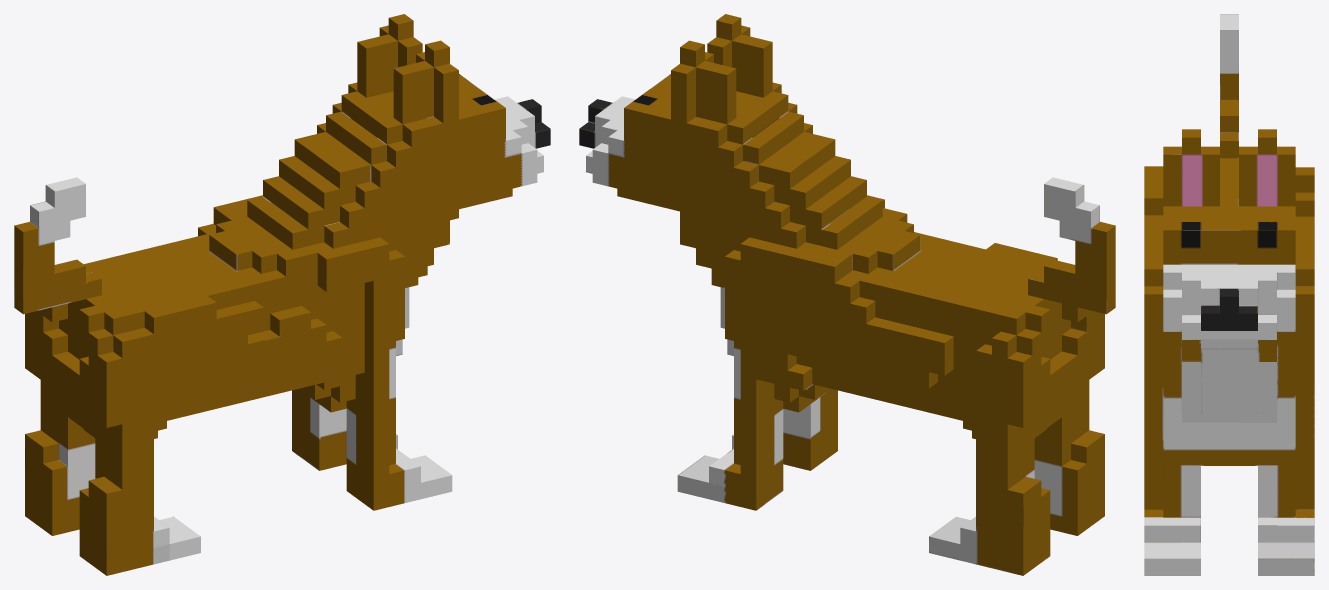
Rendered from tsun.glb.
3 views of the same model, side by side, from view 1: azimuth 30°, elevation 25°; view 2: azimuth 150°, elevation 25°; view 3: azimuth 270°, elevation 25° (orthographic). The views are drawn at different scales.
Visible parts, largest first — view 1: tsun; view 2: tsun; view 3: tsun.
Boxes of the visible parts, left/top/right/bottom form: tsun: left=14, top=14, right=550, bottom=575; tsun: left=579, top=14, right=1115, bottom=575; tsun: left=1144, top=14, right=1314, bottom=575.
Size of the model in its own units: 0.66 by 0.52 by 0.18.
Materials: 1 (1 with a texture image).
